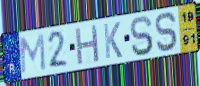2: (47, 29, 69, 72)
H: (74, 23, 101, 67)
K: (102, 21, 124, 61)
M: (19, 33, 47, 75)
S: (154, 10, 180, 53), (130, 15, 155, 58)
